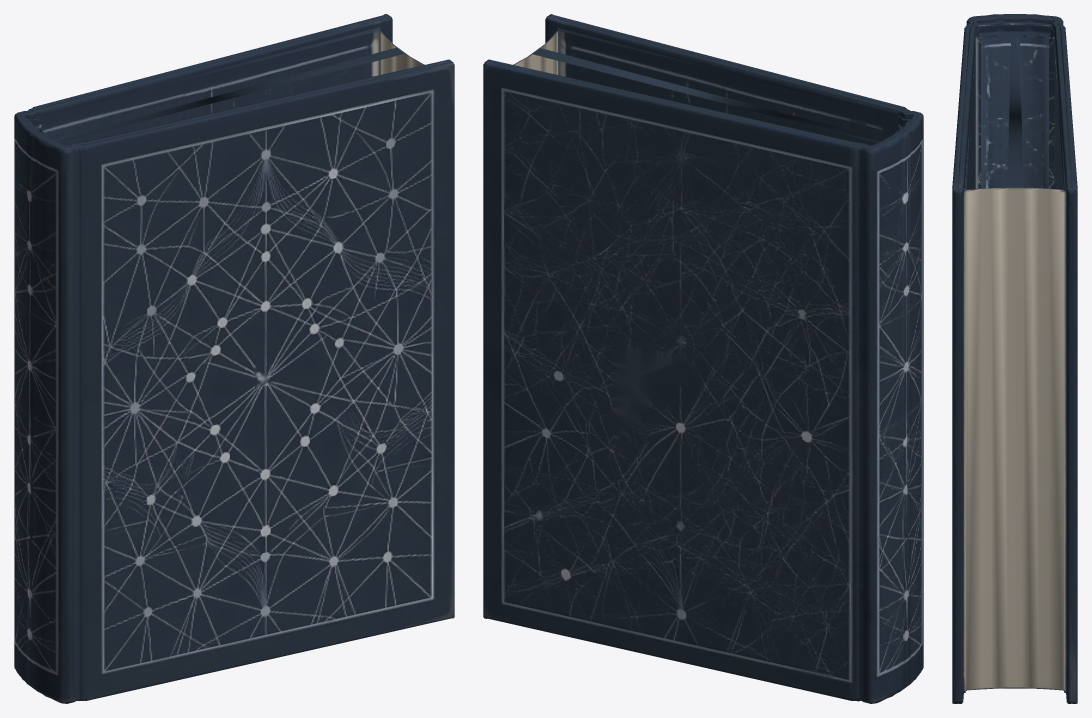
The model's file is scaling.glb.
3 views of the same model, side by side, from view 1: azimuth 30°, elevation 25°; view 2: azimuth 150°, elevation 25°; view 3: azimuth 270°, elevation 25° (orthographic). The views are drawn at different scales.
Visible parts, largest first — view 1: The Scaling Era; view 2: The Scaling Era; view 3: The Scaling Era.
Part boxes in pixels (x1,y1,x2,y2): The Scaling Era: (14, 14, 454, 703); The Scaling Era: (483, 14, 923, 703); The Scaling Era: (952, 14, 1077, 703).
Bounding box in the file's own units: 0.7363 × 0.998 × 0.2207.
Materials: 1 (1 with a texture image).
